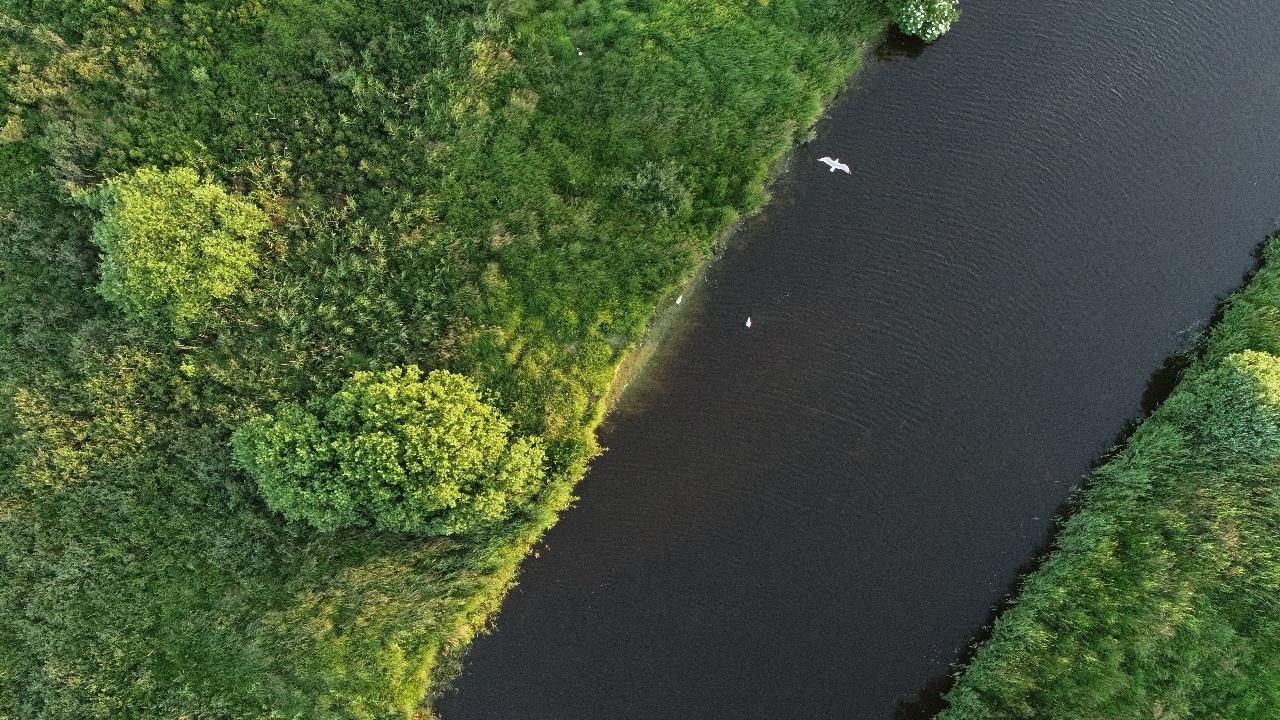Bird: (806, 141, 855, 187), (727, 298, 772, 341), (658, 279, 703, 322), (556, 32, 601, 75)
